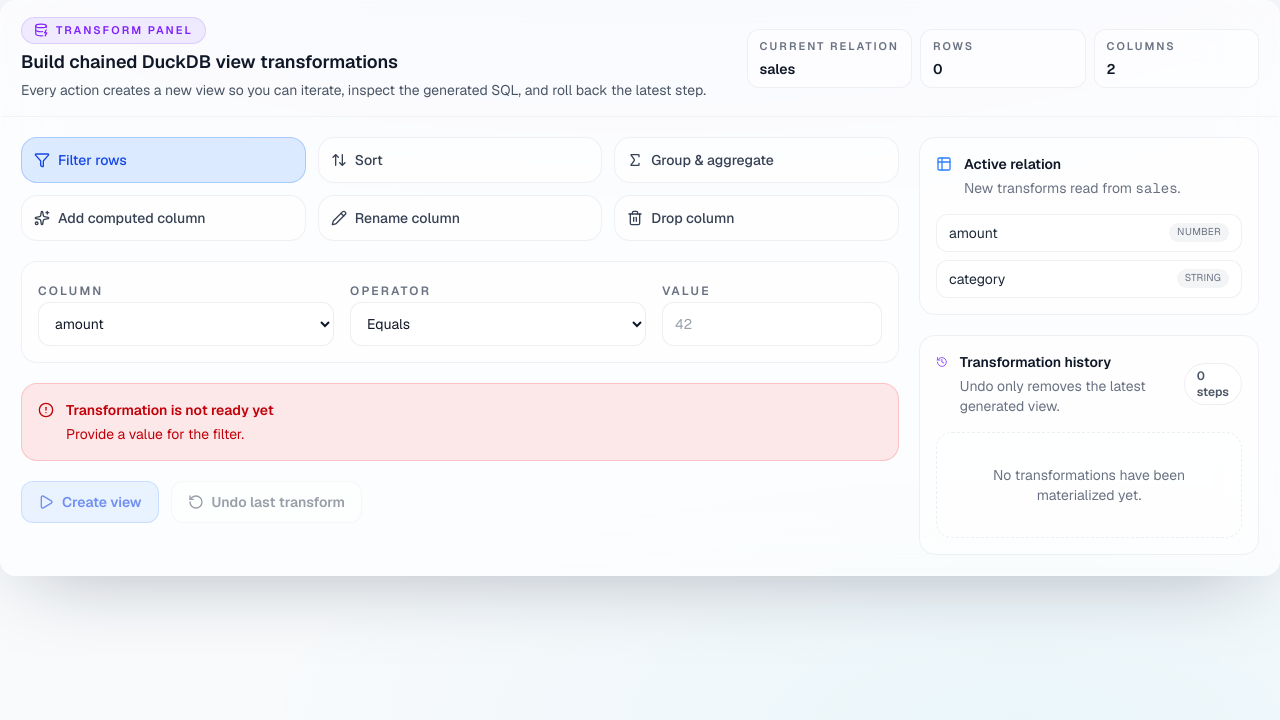
Scenario: TransformPanel › creates a filtered view and reports success
The image size is (1280, 720).
Select "Is not null" in the dropdown labelled "Operator": (498, 324) [350,302,646,346]
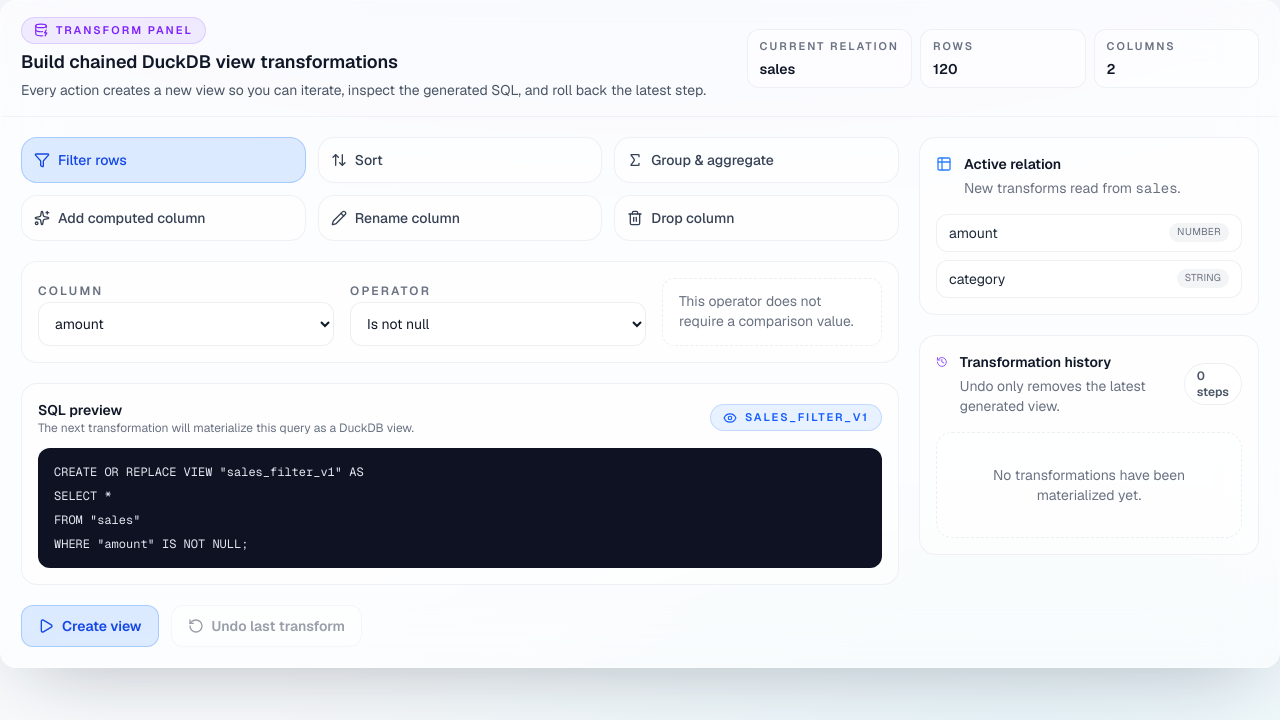
Expected: the text "This operator does not require a comparison value." is shown, [662,278,882,346]
Expected: the button "Create view" is enabled
Click the button "Create view": click(90, 626) [21,604,159,646]
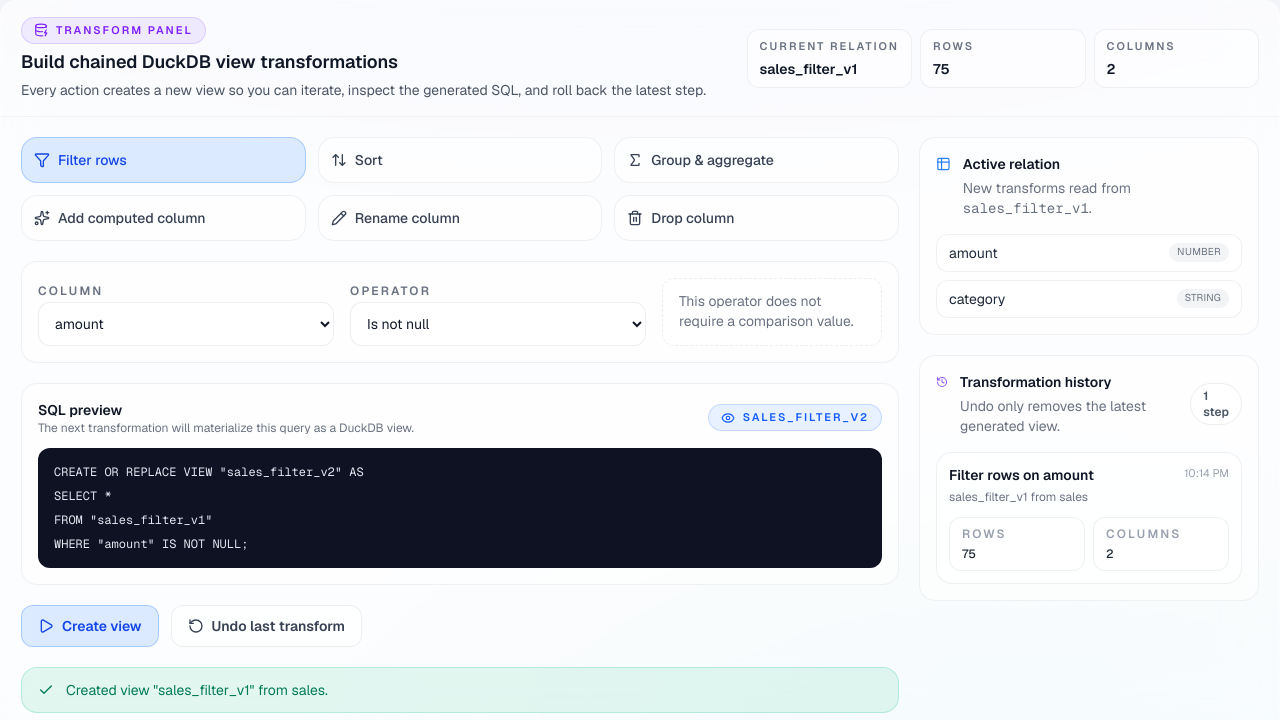
Expected: the text "Created view \"sales_filter_v1\" from sales." is shown, [66,680,328,700]
Expected: the text "sales_filter_v1 from sales" is shown, [949,488,1094,504]
Expected: the text "1 step" is shown, [1190,382,1242,424]
